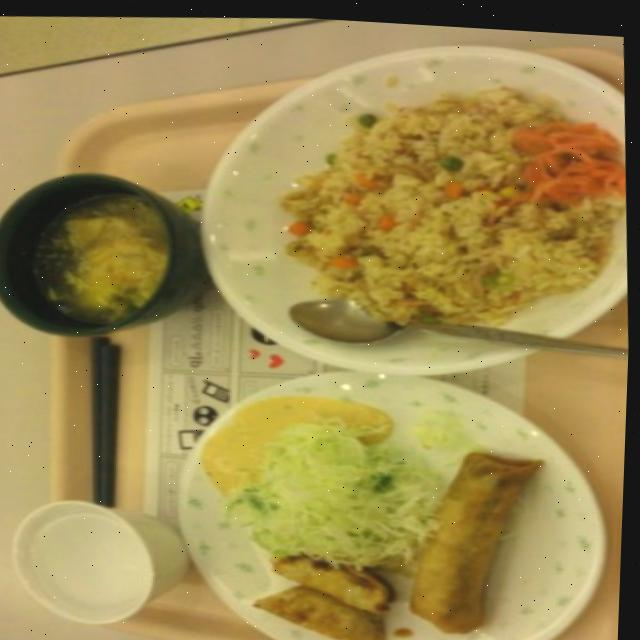带馅早点: (218, 526, 409, 640)
汤锅炖物: (0, 156, 180, 350)
米饭主食: (183, 20, 640, 396)
蔬菜料理: (212, 419, 425, 564)
鸡蛋料理: (395, 426, 551, 638)
